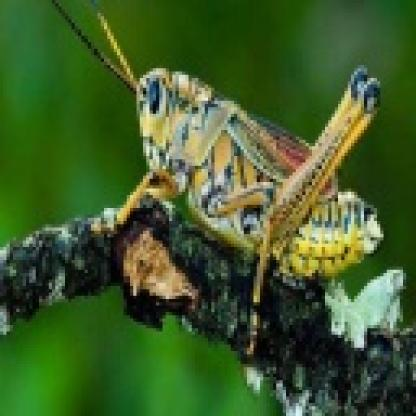grasshopper: (61, 2, 410, 295)
